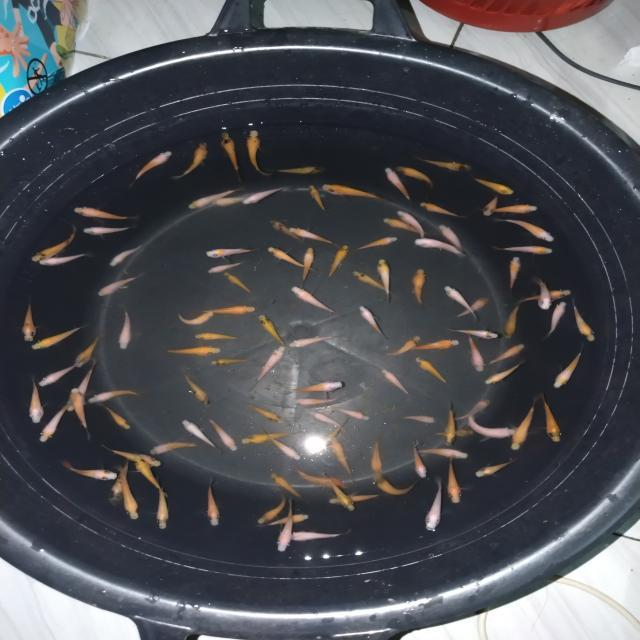nila: (28, 316, 96, 352), (18, 222, 78, 262), (320, 179, 394, 211), (105, 462, 144, 522), (36, 397, 82, 447), (550, 340, 596, 390), (34, 354, 100, 388), (242, 344, 288, 392), (95, 439, 163, 471), (66, 356, 102, 414), (54, 452, 119, 484), (286, 283, 343, 319), (168, 138, 212, 184), (489, 215, 558, 244), (123, 149, 173, 189), (175, 419, 223, 456), (508, 393, 538, 452), (182, 184, 250, 210), (107, 453, 139, 508), (439, 283, 484, 322), (252, 428, 306, 460), (479, 356, 532, 388), (286, 222, 344, 251), (66, 386, 96, 442), (318, 470, 358, 512), (411, 234, 467, 264), (130, 458, 173, 497), (215, 130, 247, 182), (460, 413, 519, 441), (242, 127, 275, 177), (348, 268, 400, 299), (256, 313, 296, 353), (67, 330, 109, 368), (393, 163, 438, 198), (92, 271, 150, 298), (568, 297, 602, 343), (420, 474, 446, 534), (536, 390, 566, 442), (252, 486, 292, 524), (298, 408, 352, 436), (379, 166, 416, 206), (237, 427, 301, 450), (508, 286, 574, 308), (273, 496, 298, 554), (72, 204, 144, 224), (173, 374, 216, 407), (327, 434, 356, 482), (264, 468, 306, 501), (411, 152, 474, 174), (204, 416, 242, 452), (294, 466, 351, 490), (286, 378, 352, 398), (412, 355, 452, 388), (202, 471, 225, 528), (22, 374, 48, 424), (355, 304, 390, 340), (147, 482, 173, 530), (370, 472, 422, 496), (93, 402, 133, 433), (432, 222, 468, 256), (213, 268, 260, 294), (370, 258, 396, 305), (264, 217, 306, 246), (442, 454, 466, 504), (472, 455, 520, 480), (444, 295, 492, 320), (416, 200, 474, 220), (450, 398, 498, 422), (467, 174, 515, 198), (324, 243, 356, 279), (414, 443, 471, 463), (378, 216, 429, 238), (484, 242, 554, 258), (282, 528, 360, 542), (502, 299, 528, 341), (104, 242, 146, 268), (394, 208, 428, 240), (404, 440, 431, 480), (487, 339, 527, 366), (325, 489, 388, 506), (36, 248, 95, 266), (378, 368, 413, 398), (19, 293, 40, 343), (202, 258, 260, 276), (150, 437, 202, 457), (242, 185, 288, 207), (202, 243, 260, 260), (257, 511, 315, 528), (442, 325, 500, 342), (382, 334, 423, 358), (350, 234, 399, 254), (244, 402, 286, 425), (326, 402, 374, 422), (84, 388, 148, 403), (366, 437, 386, 484), (202, 302, 260, 318), (464, 332, 486, 374), (408, 267, 430, 309), (545, 299, 568, 339), (288, 332, 339, 350), (116, 305, 135, 353), (529, 274, 554, 310), (208, 192, 258, 210), (164, 344, 226, 358), (304, 183, 330, 216), (172, 309, 216, 328), (478, 203, 542, 216), (442, 402, 460, 448), (504, 254, 524, 294), (408, 337, 461, 352), (268, 164, 328, 177), (80, 224, 140, 237), (397, 412, 438, 428), (194, 330, 240, 343), (293, 395, 345, 406), (206, 357, 254, 368), (434, 428, 476, 440), (478, 194, 500, 216)
